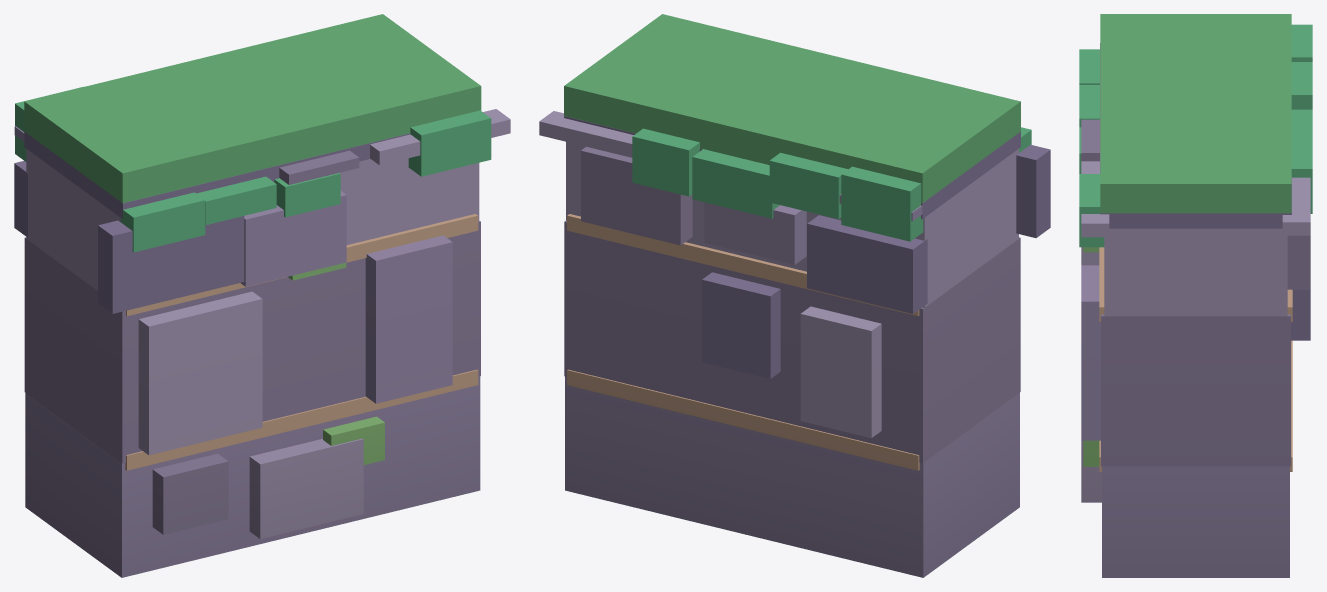
File: cliff-2m-h2.glb
3 renders of one model, left to right at view 1: azimuth 30°, elevation 25°; view 2: azimuth 150°, elevation 25°; view 3: azimuth 270°, elevation 25°, orthographic. The views are drawn at different scales.
Visible parts, largest first — view 1: cliff-2m-h2_body; view 2: cliff-2m-h2_body; view 3: cliff-2m-h2_body.
Part boxes in pixels (box(x1,y1,x2,y2)): cliff-2m-h2_body: box(14, 14, 510, 577); cliff-2m-h2_body: box(539, 14, 1050, 577); cliff-2m-h2_body: box(1079, 14, 1312, 577).
Bounding box in the file's own units: 2.22 × 2.16 × 1.16.
